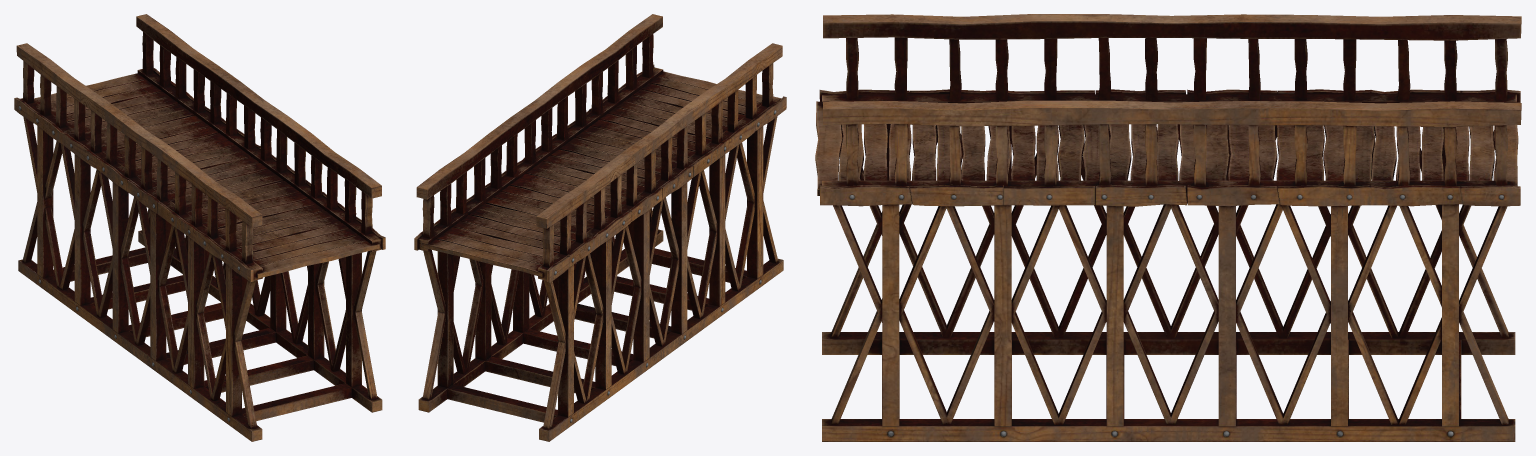
File: medieval bridge.fbx
The picture shows the model from 3 angles, left to right: view 1: azimuth 30°, elevation 25°; view 2: azimuth 150°, elevation 25°; view 3: azimuth 270°, elevation 25°; orthographic projection. The views are drawn at different scales.
Parts seen in each view (by area): view 1: Cube.003; view 2: Cube.003; view 3: Cube.003.
Part boxes in pixels (x1,y1,x2,y2): Cube.003: [14, 14, 385, 441]; Cube.003: [414, 14, 786, 441]; Cube.003: [815, 14, 1521, 441].
Size of the model in its own units: 511 by 805 by 1542.
